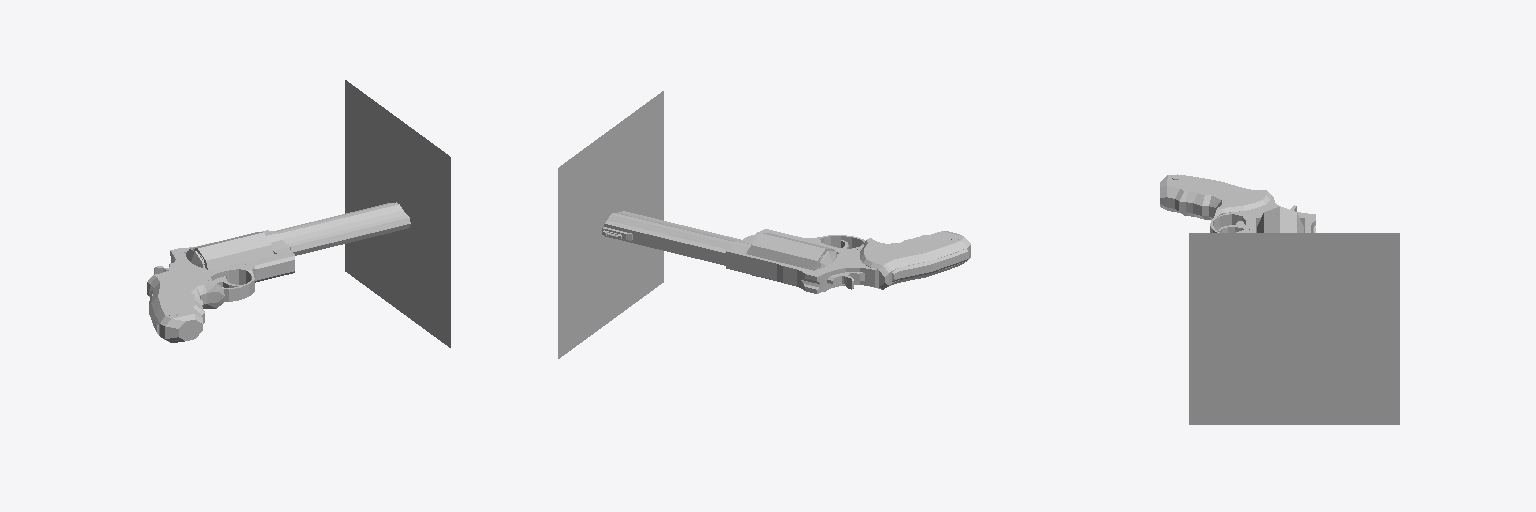
File: taurus.obj
3 renders of one model, left to right at view 1: azimuth 30°, elevation 25°; view 2: azimuth 150°, elevation 25°; view 3: azimuth 270°, elevation 25°, orthographic.
Visible parts, largest first — view 1: flashModel, gunModel, revolverBarrelModel; view 2: flashModel, gunModel, revolverBarrelModel; view 3: flashModel, gunModel, revolverBarrelModel.
Boxes of the visible parts, x1=… form: flashModel: x1=345, y1=80, x2=450, y2=347; gunModel: x1=147, y1=202, x2=410, y2=342; revolverBarrelModel: x1=189, y1=232, x2=273, y2=269; flashModel: x1=558, y1=91, x2=663, y2=358; gunModel: x1=602, y1=211, x2=970, y2=293; revolverBarrelModel: x1=750, y1=233, x2=834, y2=291; flashModel: x1=1189, y1=233, x2=1399, y2=424; gunModel: x1=1160, y1=174, x2=1315, y2=232; revolverBarrelModel: x1=1257, y1=206, x2=1303, y2=232.
Size of the model in its own units: 7.02 by 4.31 by 4.89.